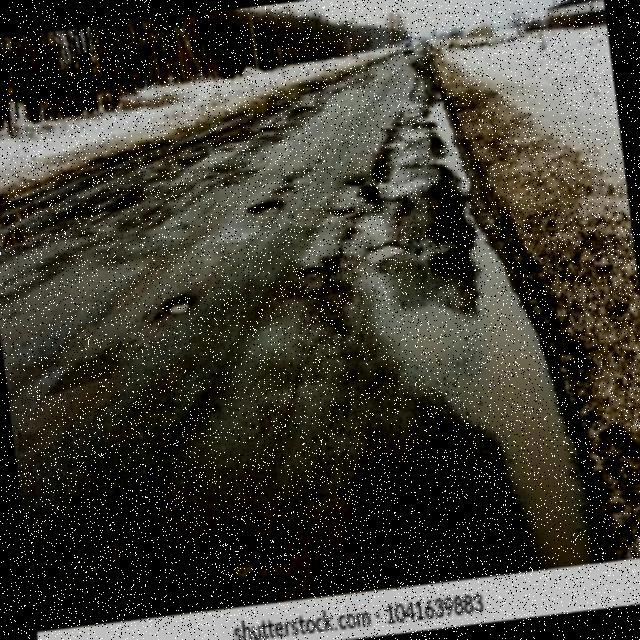Pothole: (369, 223, 599, 568), (433, 101, 469, 194), (367, 246, 405, 264), (165, 295, 193, 316), (246, 200, 283, 213)
